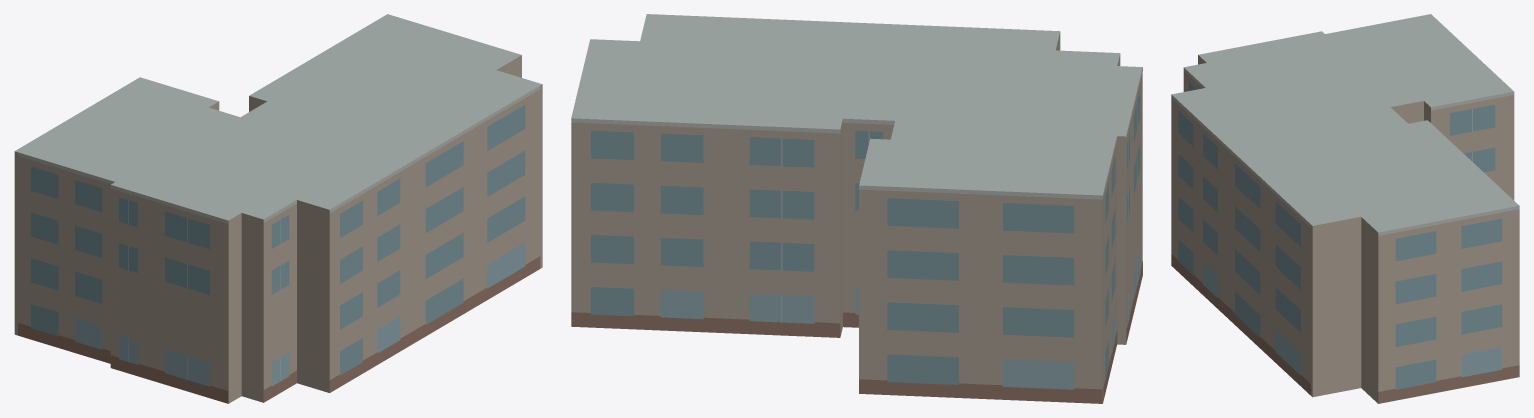
The model's file is survey-upis-32758072.glb.
The picture shows the model from 3 angles, left to right: view 1: azimuth 30°, elevation 25°; view 2: azimuth 150°, elevation 25°; view 3: azimuth 270°, elevation 25°; orthographic projection. The views are drawn at different scales.
Parts seen in each view (by area): view 1: survey-upis-32758072.tmp; view 2: survey-upis-32758072.tmp; view 3: survey-upis-32758072.tmp.
Boxes of the visible parts, x1,y1,x2,y2 form: survey-upis-32758072.tmp: [14, 14, 542, 403]; survey-upis-32758072.tmp: [571, 14, 1142, 403]; survey-upis-32758072.tmp: [1171, 14, 1519, 403].
Size of the model in its own units: 33.93 by 12.4 by 22.84.
